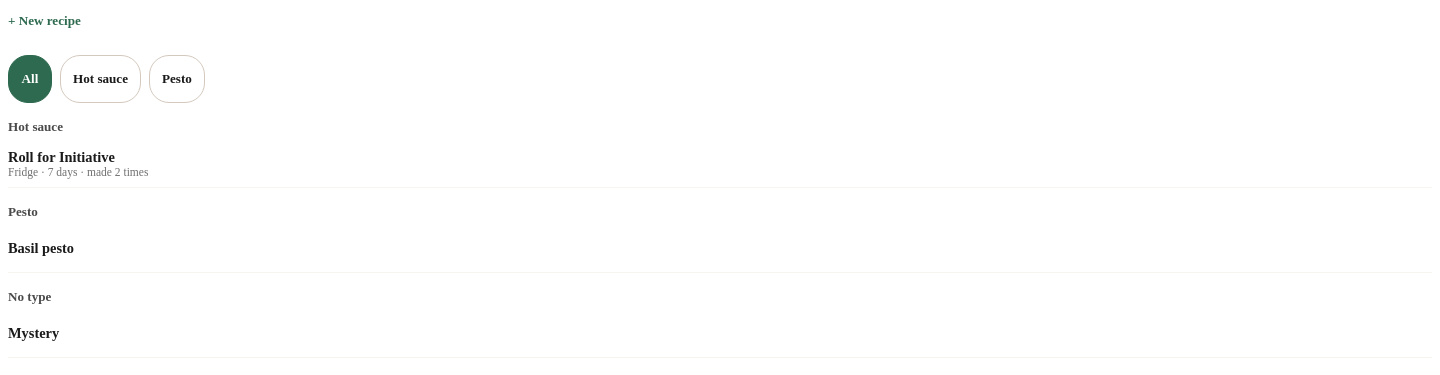
the Recipes segment — the list › filters by type (chips only for types in use), and All brings them back
Step 1. Click the button with test id "recipes-filter-chip" showing "Pesto" → coordinates (177, 79), box 149,55 -> 205,103
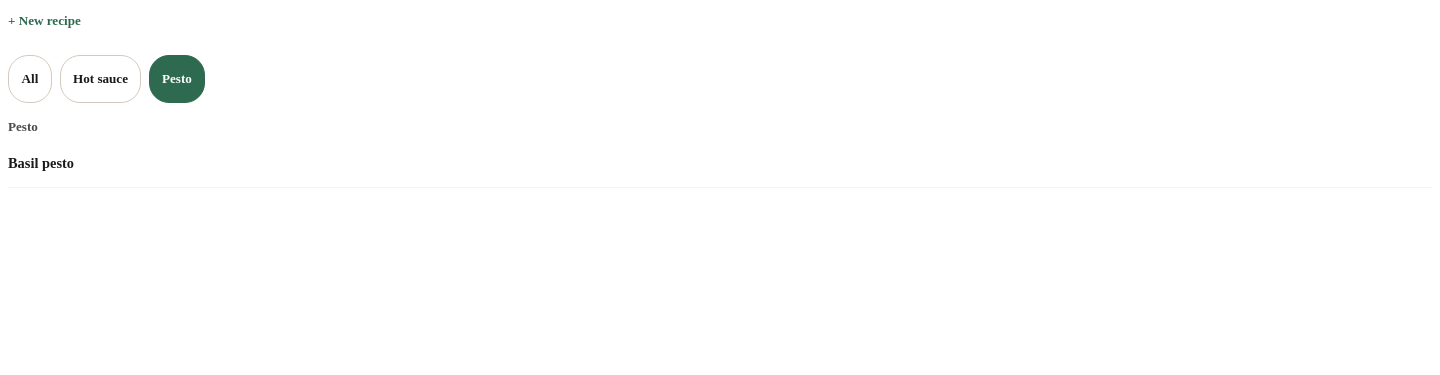
Step 2. Click the button with test id "recipes-filter-all" → coordinates (30, 79), box 8,55 -> 52,103
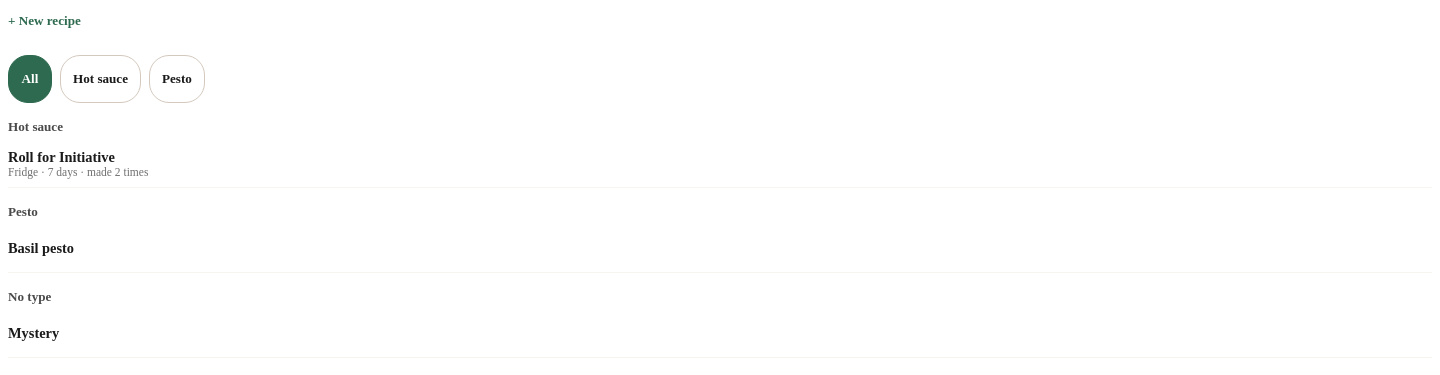
Result: the number of buttons with test id "recipes-row" is 3 at 8,139 -> 1432,187; 8,224 -> 1432,272; 8,309 -> 1432,357
